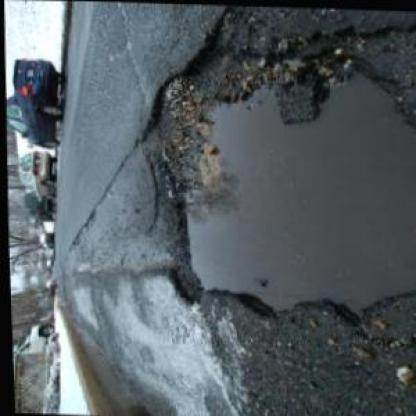pothole: (126, 10, 415, 331)
